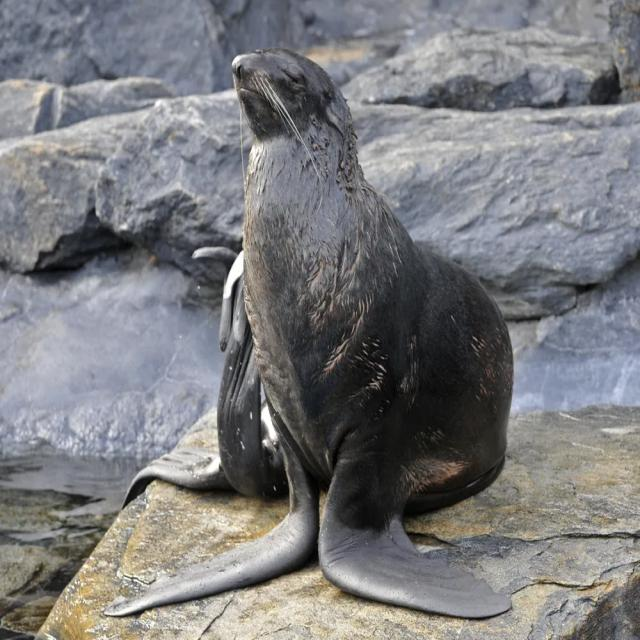WaterDog: (202, 41, 520, 624)
